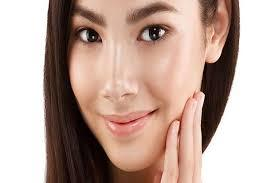Oily-Skin: (140, 50, 183, 96), (105, 43, 128, 93), (72, 51, 100, 92), (110, 145, 149, 164)
